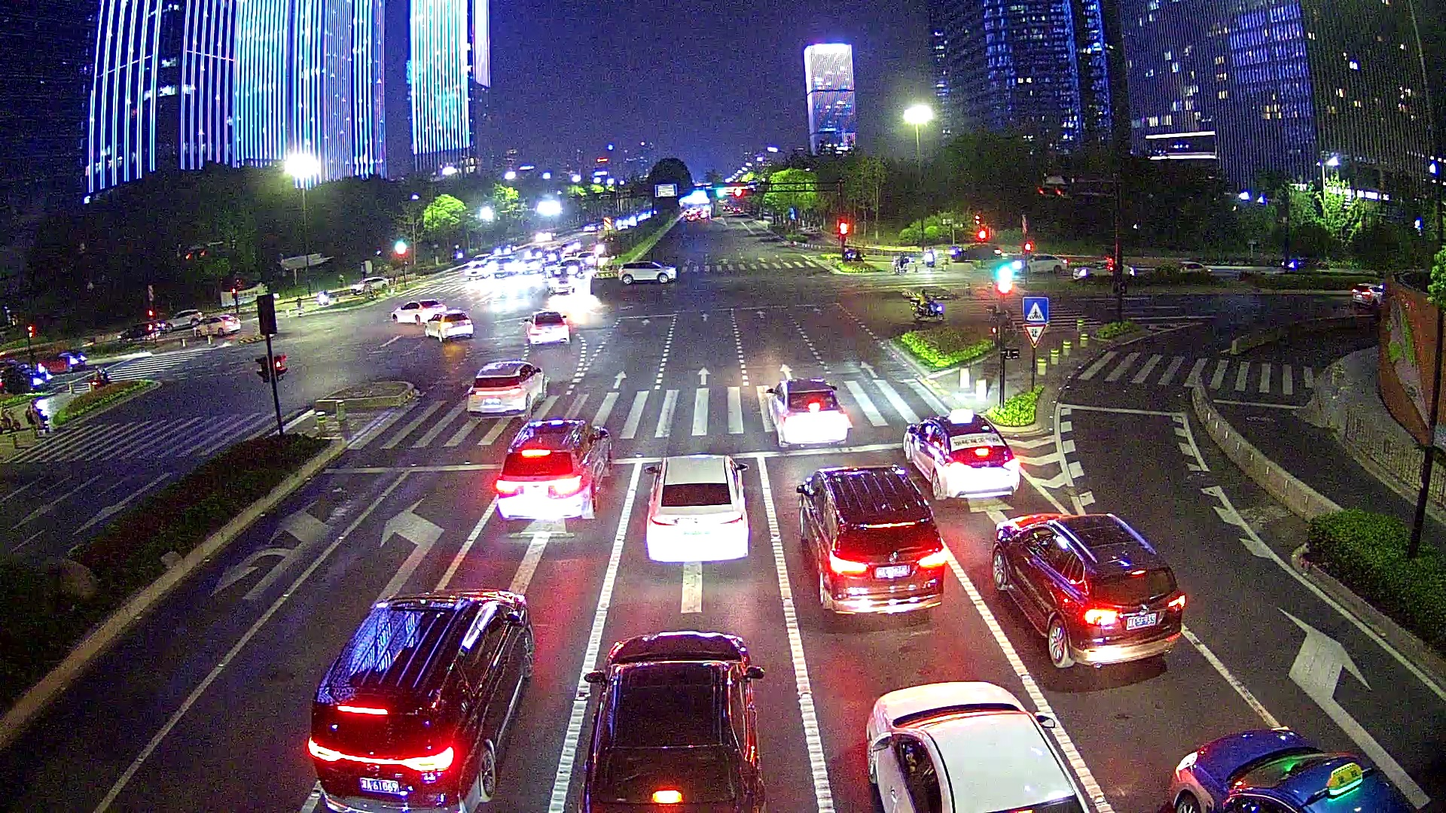vehicle: (300, 586, 538, 808), (580, 626, 771, 810), (984, 507, 1188, 670), (864, 674, 1094, 811), (795, 458, 947, 619), (1152, 719, 1403, 810), (639, 447, 752, 564), (490, 416, 614, 522), (901, 406, 1023, 498), (766, 375, 851, 450), (465, 358, 548, 419), (521, 309, 570, 346), (618, 259, 683, 284), (426, 308, 471, 340), (386, 299, 443, 324)
